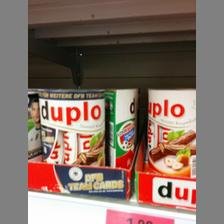Schokolade: (36, 87, 104, 165), (145, 88, 195, 178)
